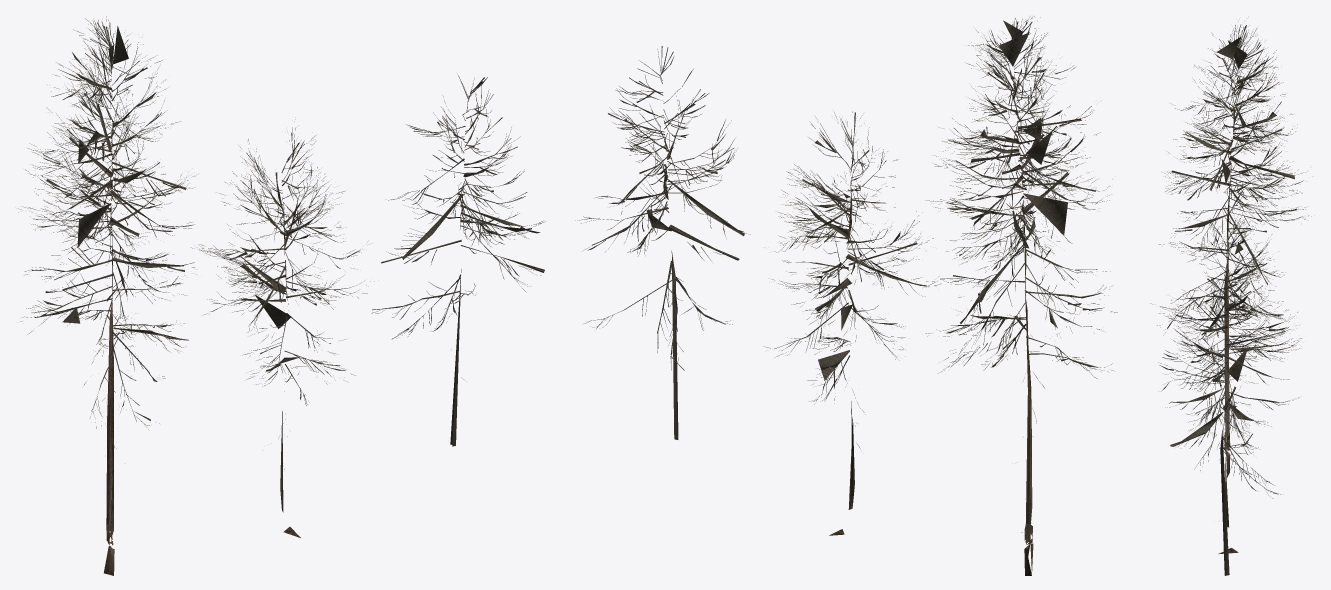
File: fir_tree_01.glb
The picture shows the model from 3 angles, left to right: view 1: azimuth 30°, elevation 25°; view 2: azimuth 150°, elevation 25°; view 3: azimuth 270°, elevation 25°; orthographic projection. The views are drawn at different scales.
Visible parts, largest first — view 1: fir_tree_01; view 2: fir_tree_01; view 3: fir_tree_01.
Boxes of the visible parts, <box> form: fir_tree_01: <box>18,16,545,575</box>; fir_tree_01: <box>575,16,1117,575</box>; fir_tree_01: <box>1151,24,1311,575</box>.
Bounding box in the file's own units: 18.14 × 18.61 × 6.18.
Materials: 6 (6 with a texture image).
